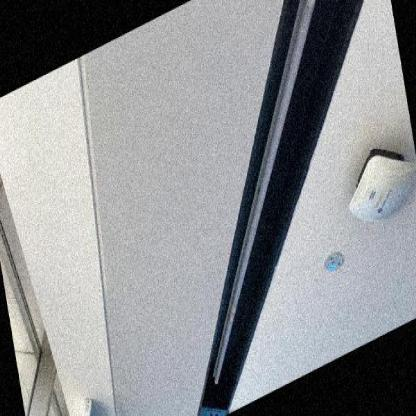light_off: (154, 0, 380, 398)
